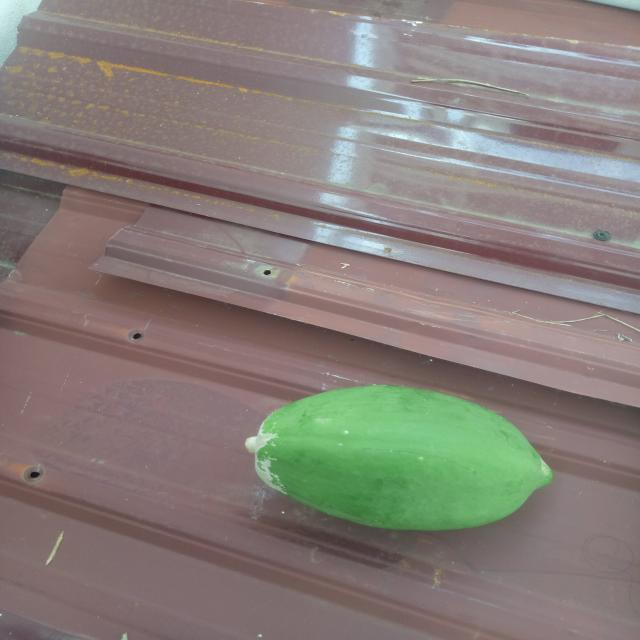Pepaya unrippen: (238, 384, 562, 538)
